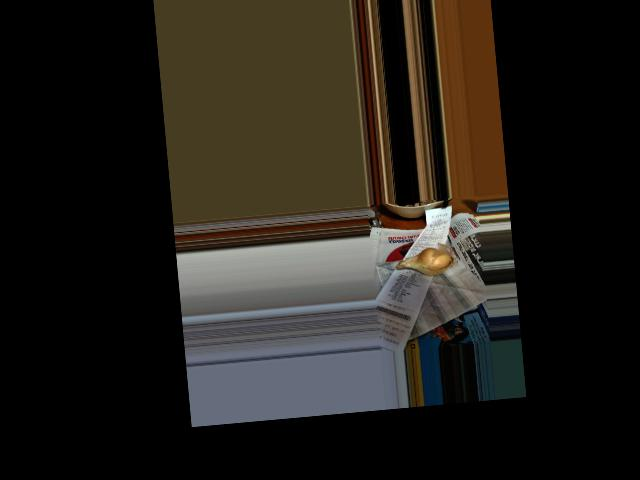onion: (398, 243, 453, 279)
